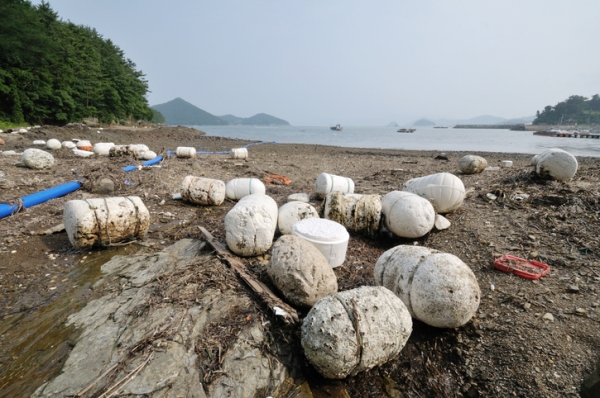buoy: (297, 284, 410, 376), (369, 243, 480, 330), (261, 233, 337, 307), (61, 193, 151, 247), (223, 194, 276, 253), (400, 171, 465, 215), (381, 187, 435, 237), (322, 192, 381, 237), (529, 147, 577, 183), (181, 174, 223, 205), (312, 167, 355, 197), (224, 176, 266, 199), (21, 147, 52, 168), (457, 151, 485, 173), (228, 145, 249, 159), (175, 145, 194, 159)
